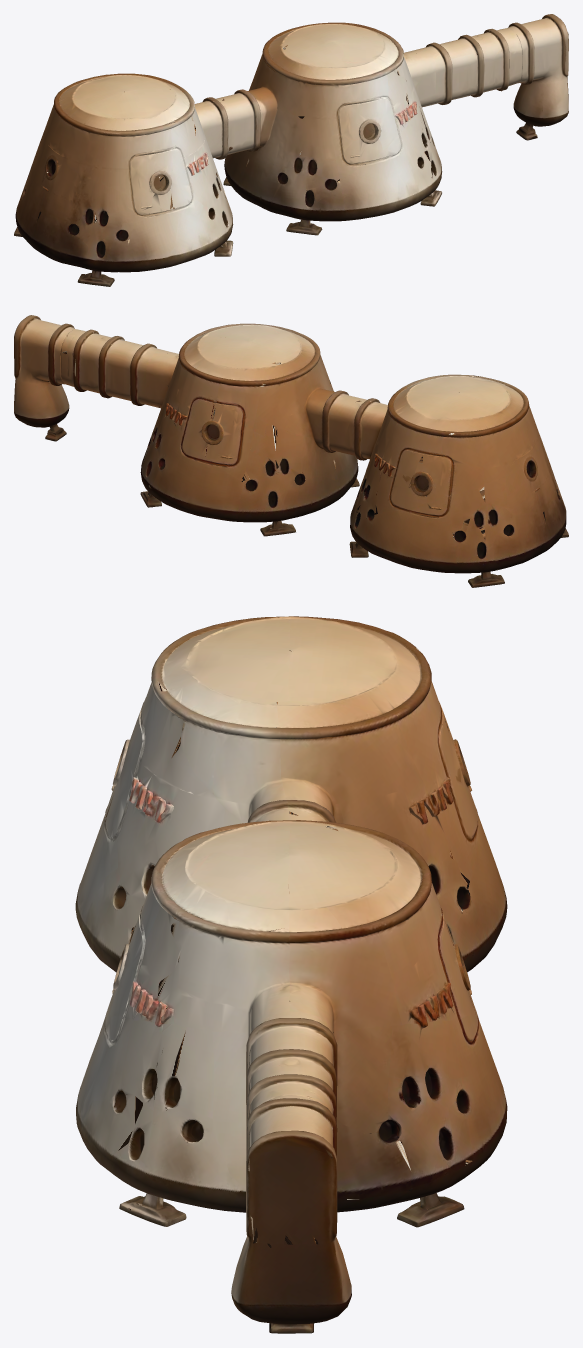
Rendered from asset-3.glb.
The picture shows the model from 3 angles, top to bottom: view 1: azimuth 30°, elevation 25°; view 2: azimuth 150°, elevation 25°; view 3: azimuth 270°, elevation 25°; orthographic projection. The views are drawn at different scales.
Visible parts, largest first — view 1: tripo_node_42b26816-5610-44ff-a984-dacbdb395b93; view 2: tripo_node_42b26816-5610-44ff-a984-dacbdb395b93; view 3: tripo_node_42b26816-5610-44ff-a984-dacbdb395b93.
Part boxes in pixels (<box>): tripo_node_42b26816-5610-44ff-a984-dacbdb395b93: <box>14,14,568,286</box>; tripo_node_42b26816-5610-44ff-a984-dacbdb395b93: <box>14,315,568,587</box>; tripo_node_42b26816-5610-44ff-a984-dacbdb395b93: <box>75,616,507,1333</box>.
Bounding box in the file's own units: 0.9801 × 0.2648 × 0.3481.
Materials: 1 (1 with a texture image).
